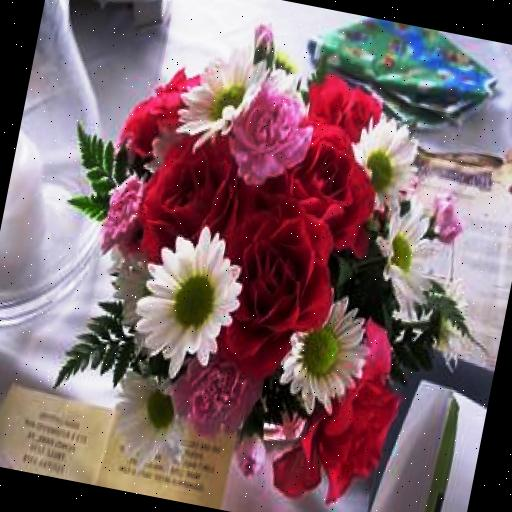daisy: (130, 230, 244, 373), (282, 302, 374, 410), (172, 42, 260, 144), (357, 122, 424, 194)
